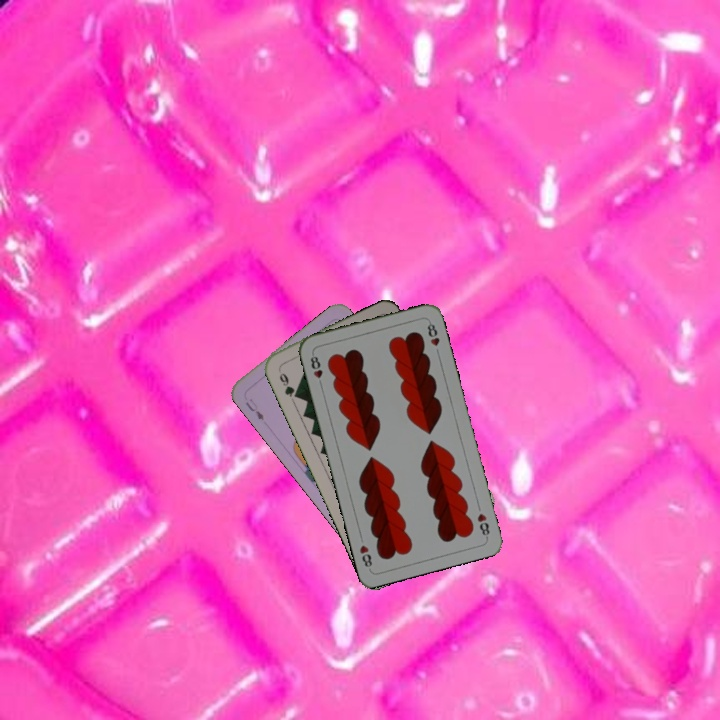EU: (241, 394, 267, 423)
G9: (274, 365, 301, 401)
H8: (306, 349, 325, 389), (473, 509, 492, 540)
